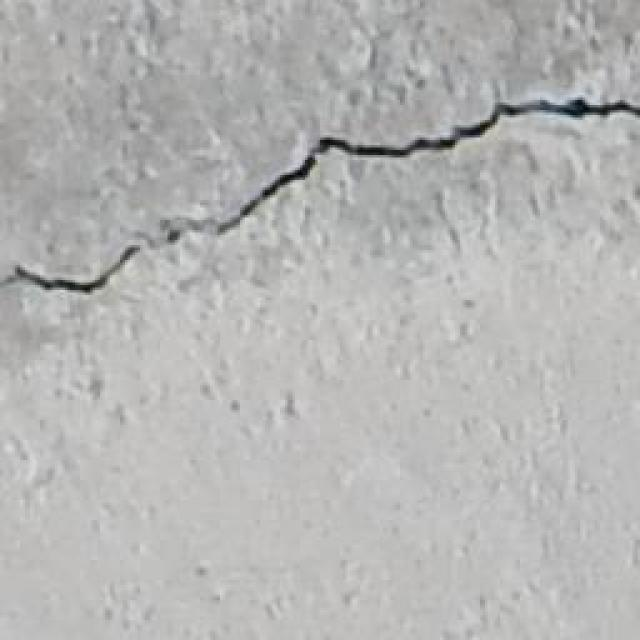concrete-crack: (0, 95, 640, 295)
